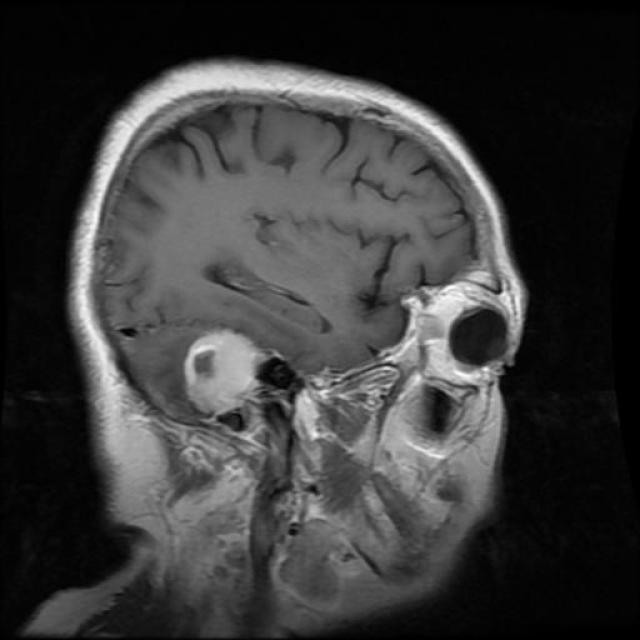meningioma: (182, 331, 266, 418)
